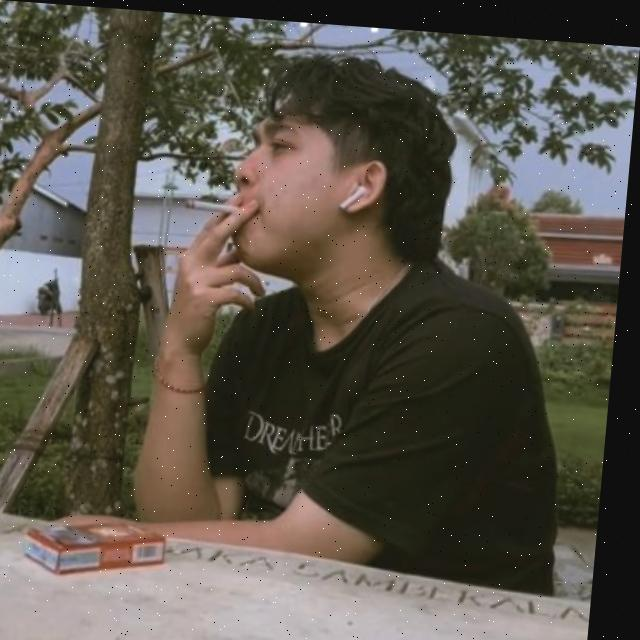cigarette: (188, 196, 243, 210)
